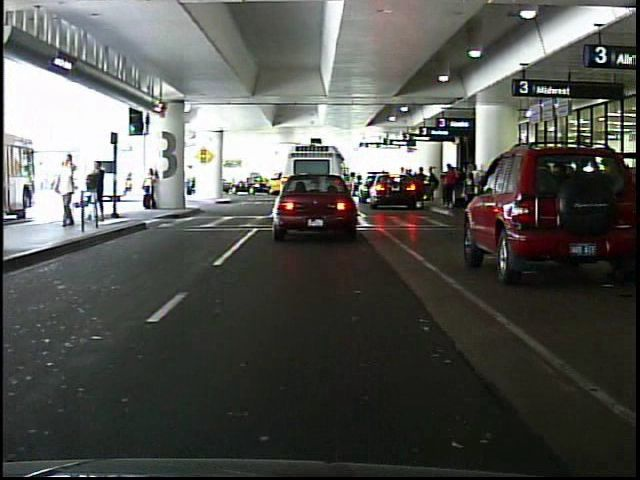person: (54, 150, 82, 232), (89, 157, 109, 223), (145, 165, 164, 210), (442, 161, 458, 209), (187, 163, 205, 203)
